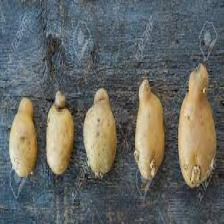Damaged potato: (178, 60, 218, 190), (44, 90, 74, 182), (7, 96, 37, 183)
Sprouted potato: (83, 81, 117, 187), (134, 78, 168, 183)
